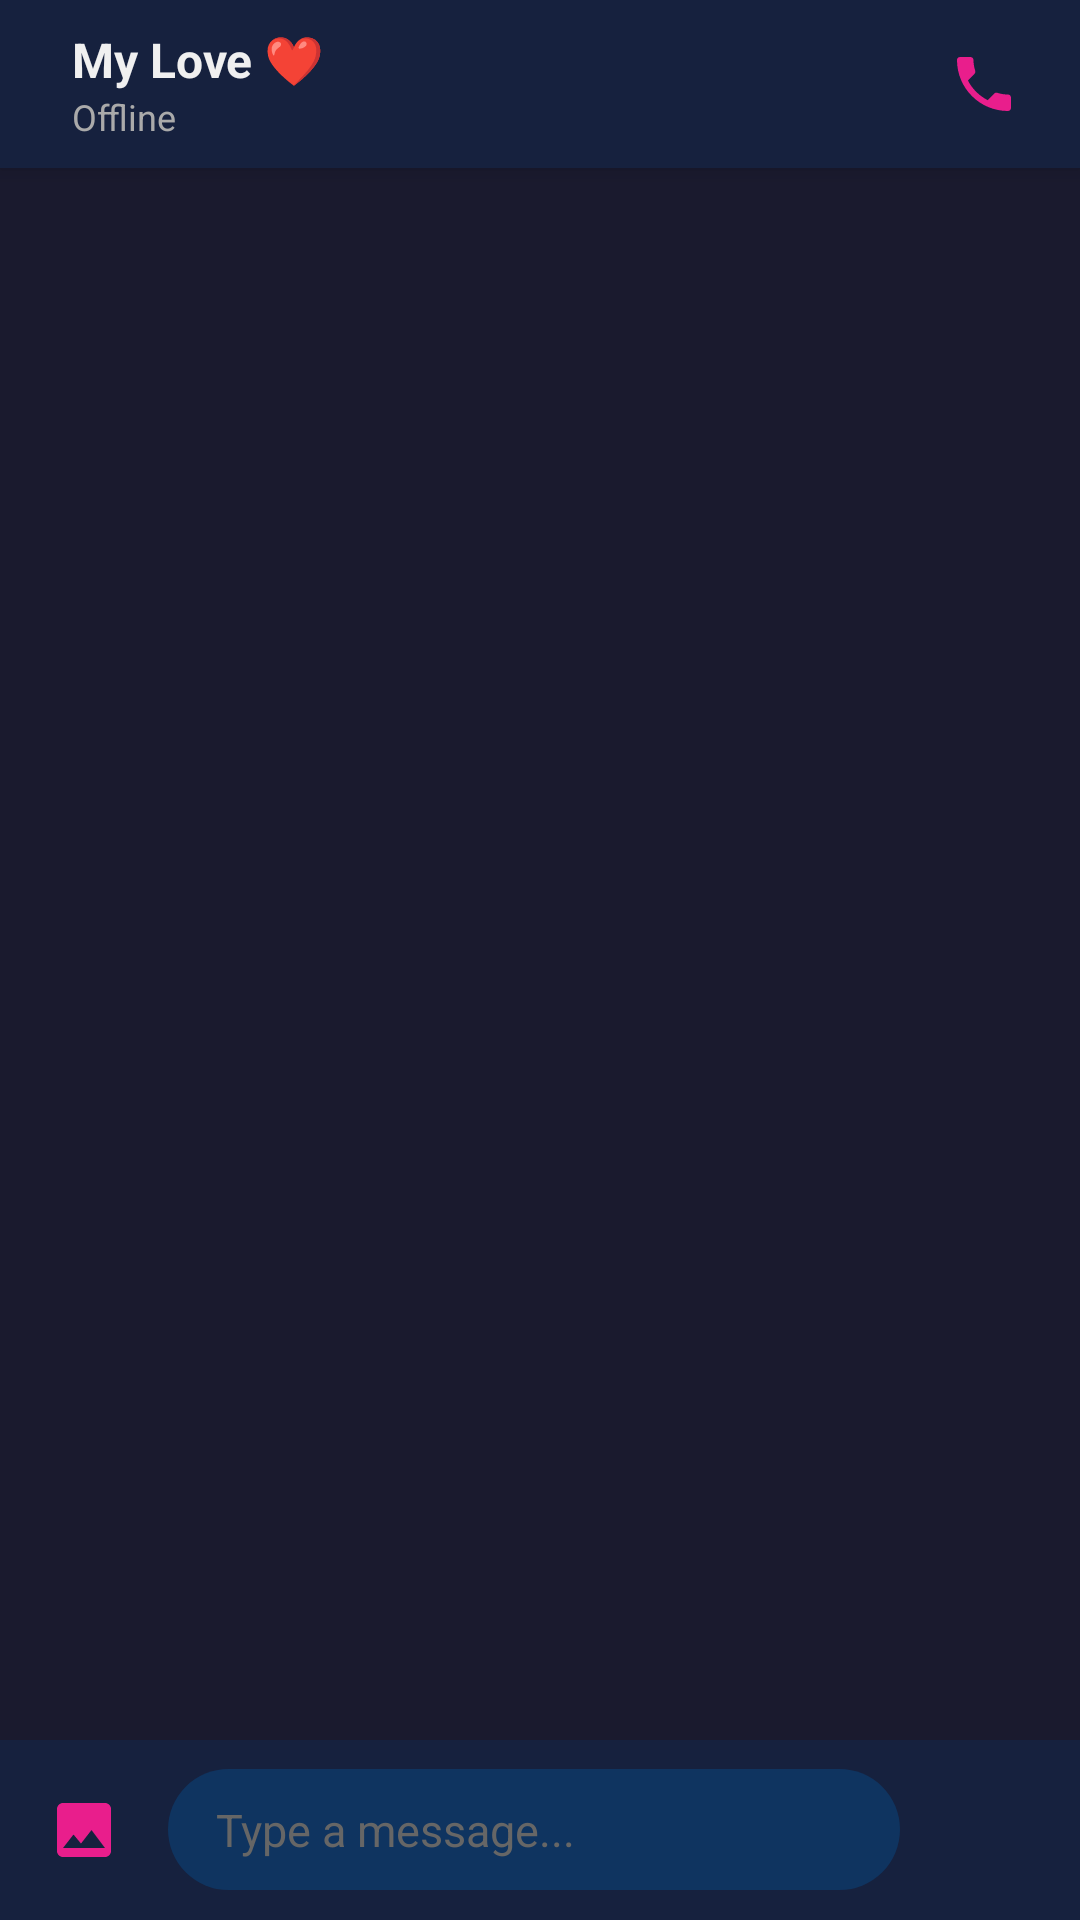

Named icons in this screenshot (1080*1920) and their centers, point (x, y):
Call: point (984, 84)
Send image: point (84, 1830)
